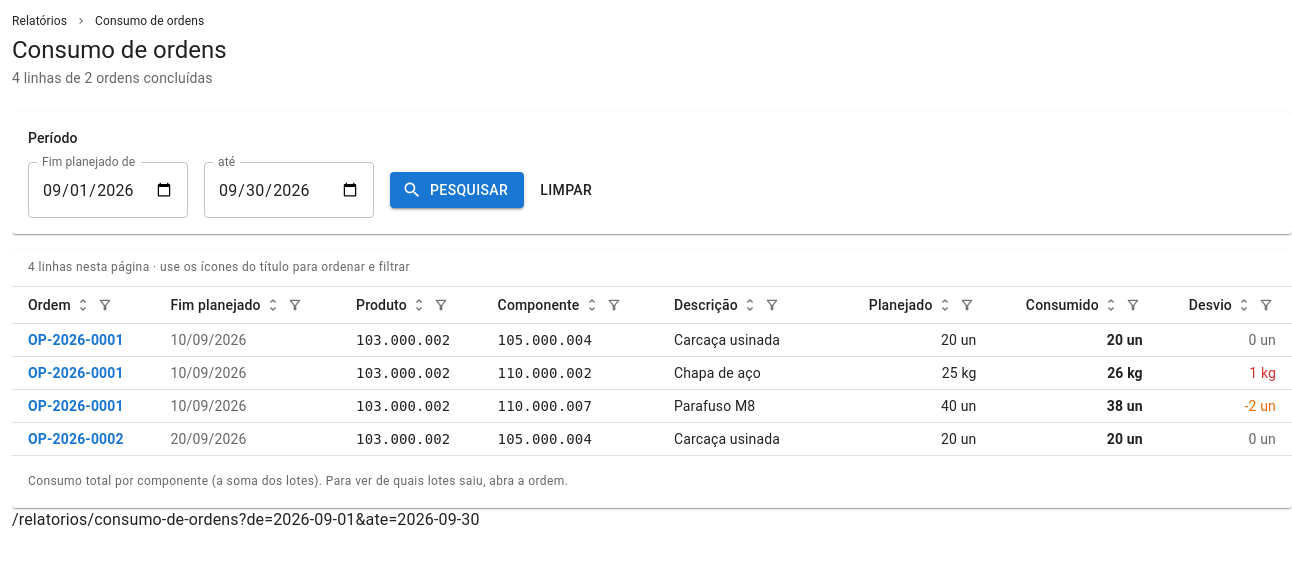
Test: RelatorioConsumoOrdensPage › Limpar tira o período da URL e volta ao pedido de escolha
The image size is (1292, 568).
Expected: the text "Chapa de aço" is shown, [674, 365, 761, 381]
Click the button "Limpar" at [566, 190], box [532, 172, 600, 208]
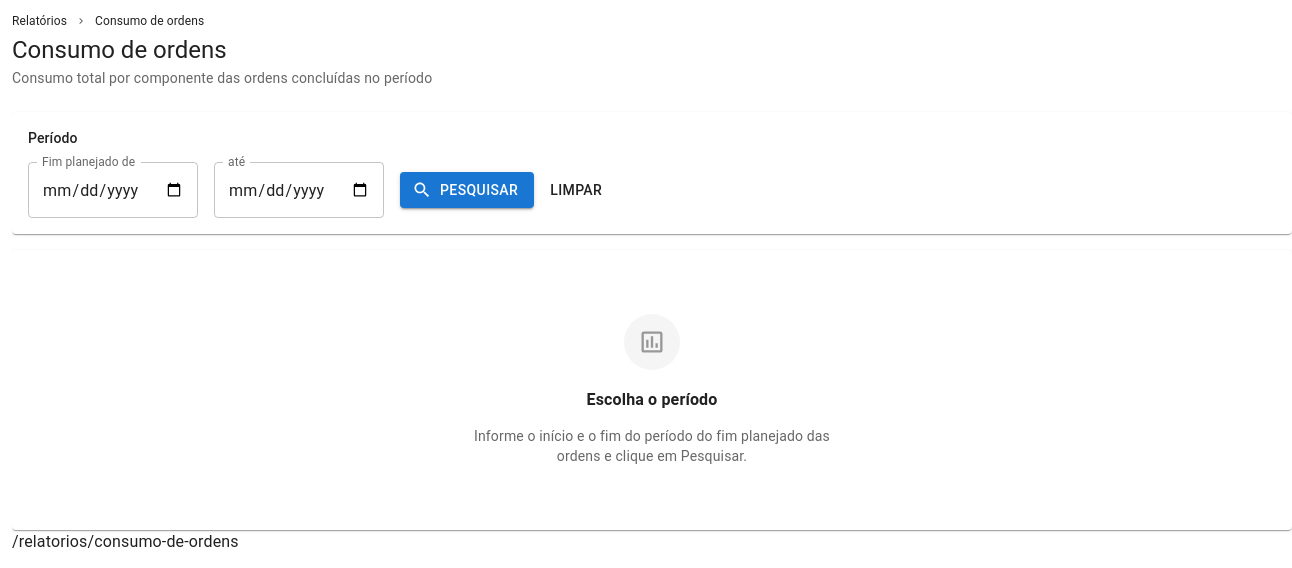
Expected: the heading "Escolha o período" is shown, [586, 386, 718, 414]
Expected: the text with test id "rota" no longer shows "de=", [12, 532, 239, 551]
